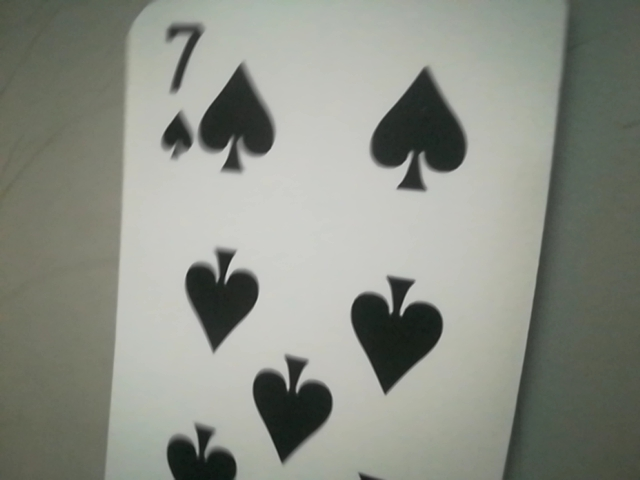ht 7: (137, 16, 204, 167)
